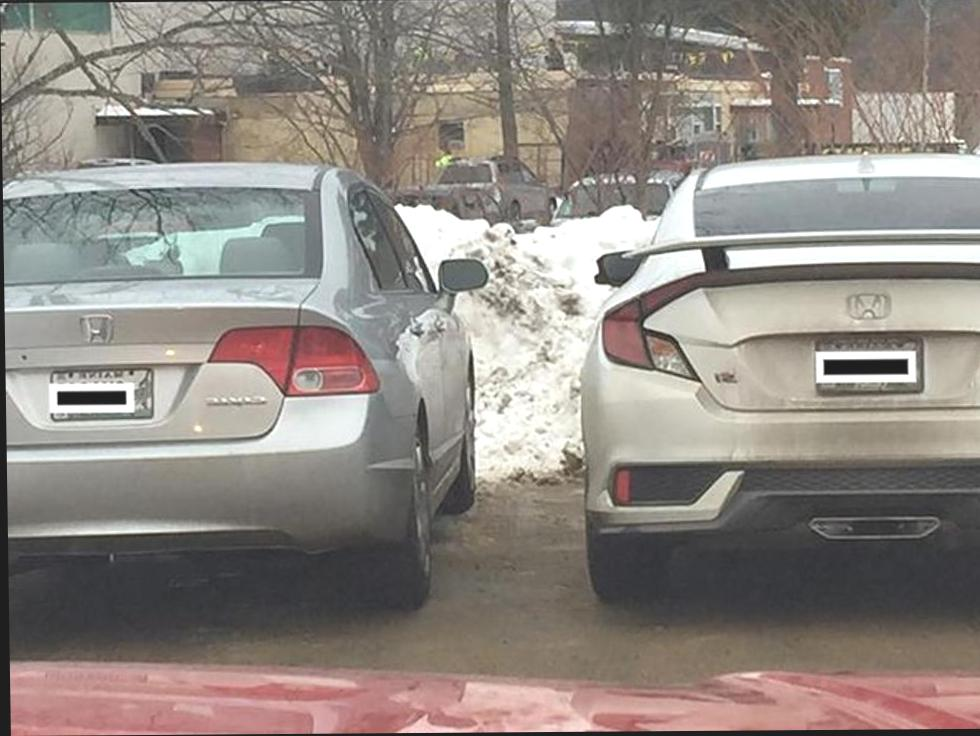License_Plate: (797, 329, 931, 406), (43, 358, 161, 434)
